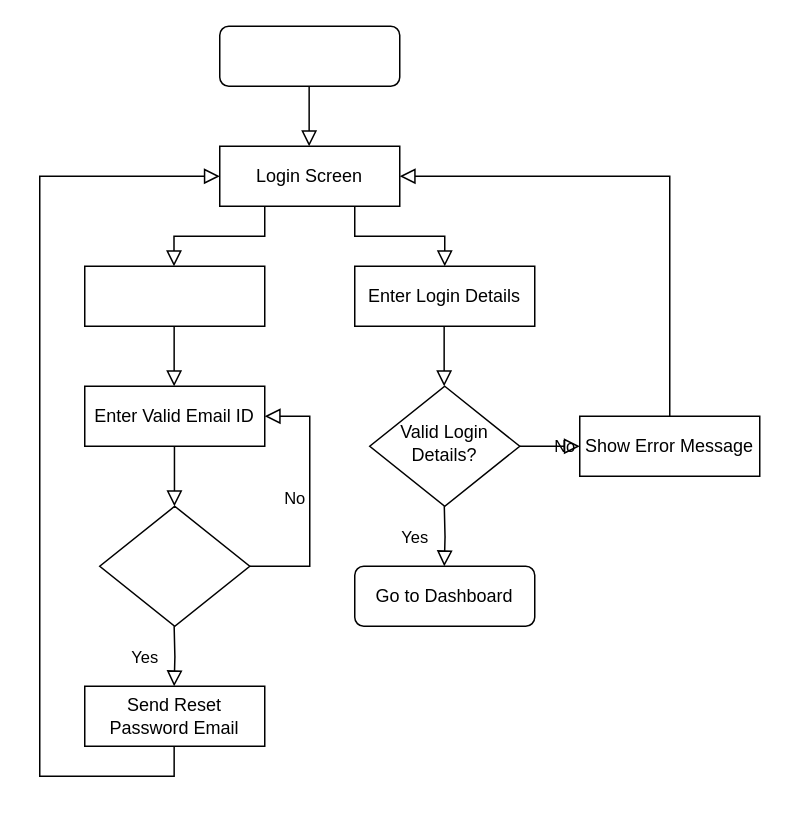
Image size: 786x818. Some labels were removed from this diagram. The centre of each missing label's shape, as x and y in pixels:
"Forgotten Password" belongs at point (174, 295).
"Open App" belongs at point (309, 55).
"Valid Email ID?" belongs at point (174, 565).
